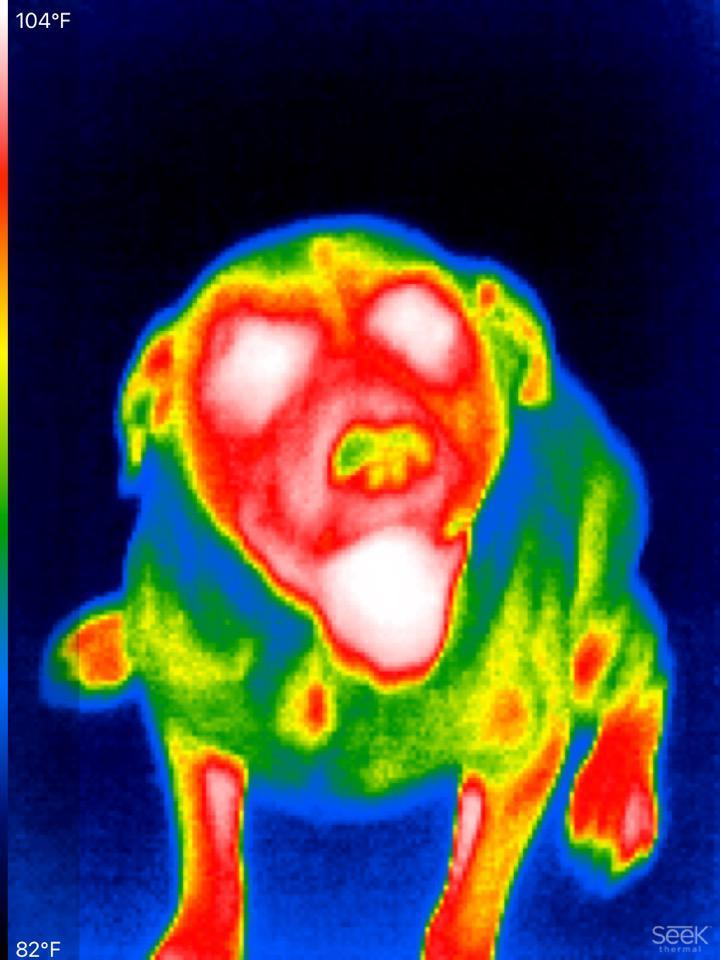dog: (37, 204, 675, 958)
